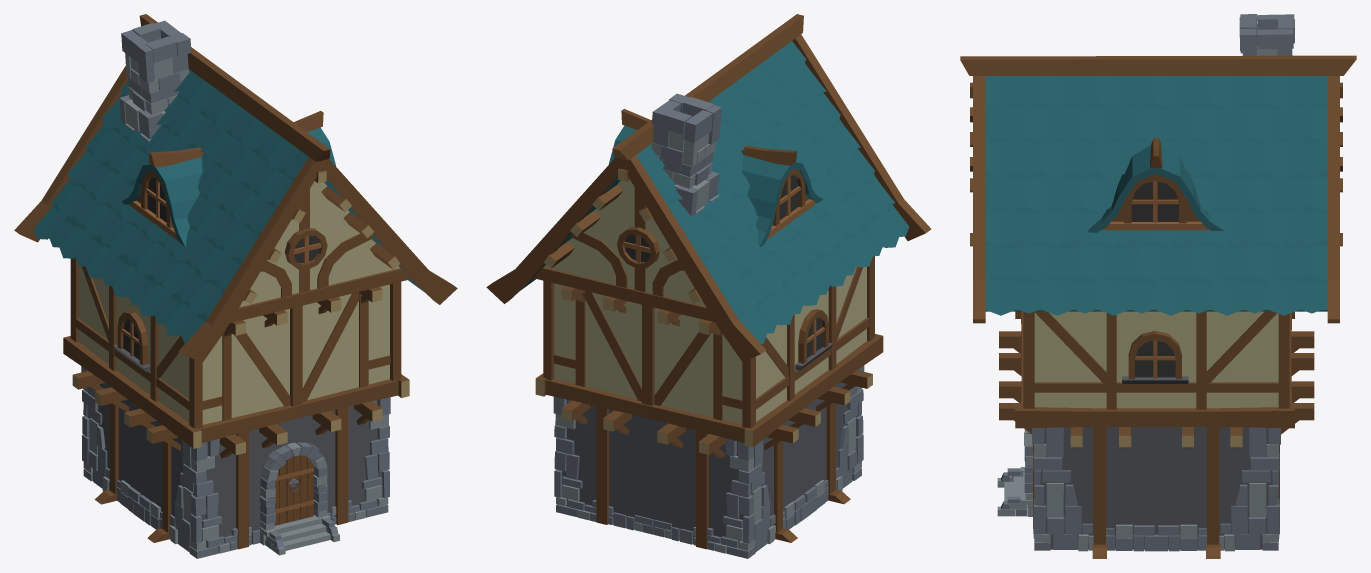
The model's file is house.glb.
3 renders of one model, left to right at view 1: azimuth 30°, elevation 25°; view 2: azimuth 150°, elevation 25°; view 3: azimuth 270°, elevation 25°, orthographic. The views are drawn at different scales.
Visible parts, largest first — view 1: House_1; view 2: House_1; view 3: House_1.
Boxes of the visible parts, x1=… form: House_1: x1=14, y1=14, x2=457, y2=558; House_1: x1=486, y1=14, x2=931, y2=558; House_1: x1=960, y1=14, x2=1356, y2=558.
Size of the model in its own units: 6 by 9 by 7.
